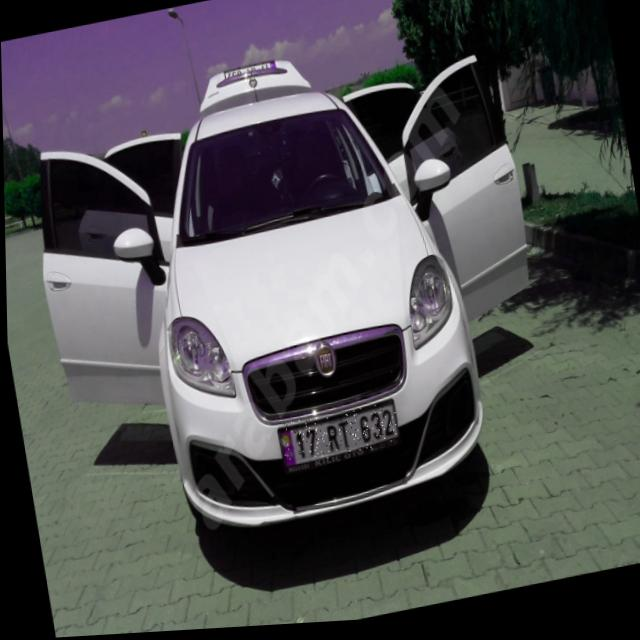license_plate: (275, 406, 398, 471)
